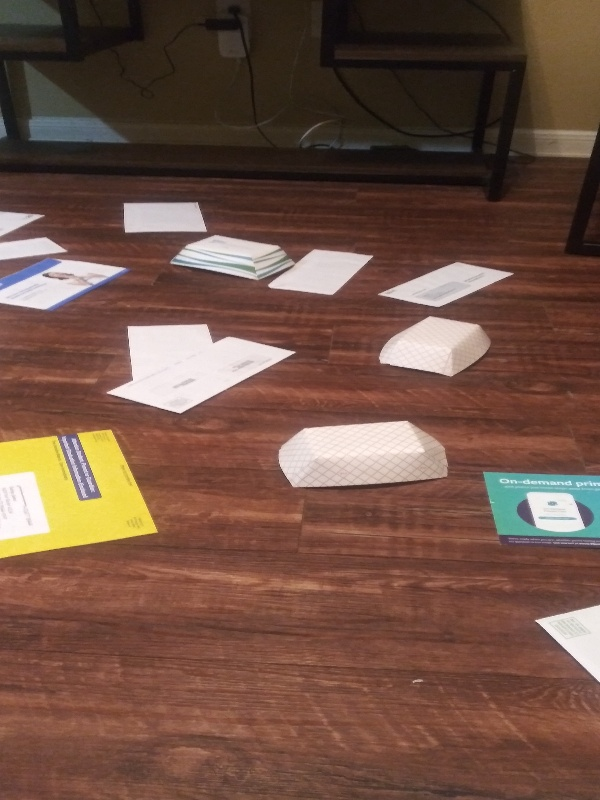plate: (274, 419, 454, 493), (375, 311, 495, 379), (164, 233, 300, 282)
